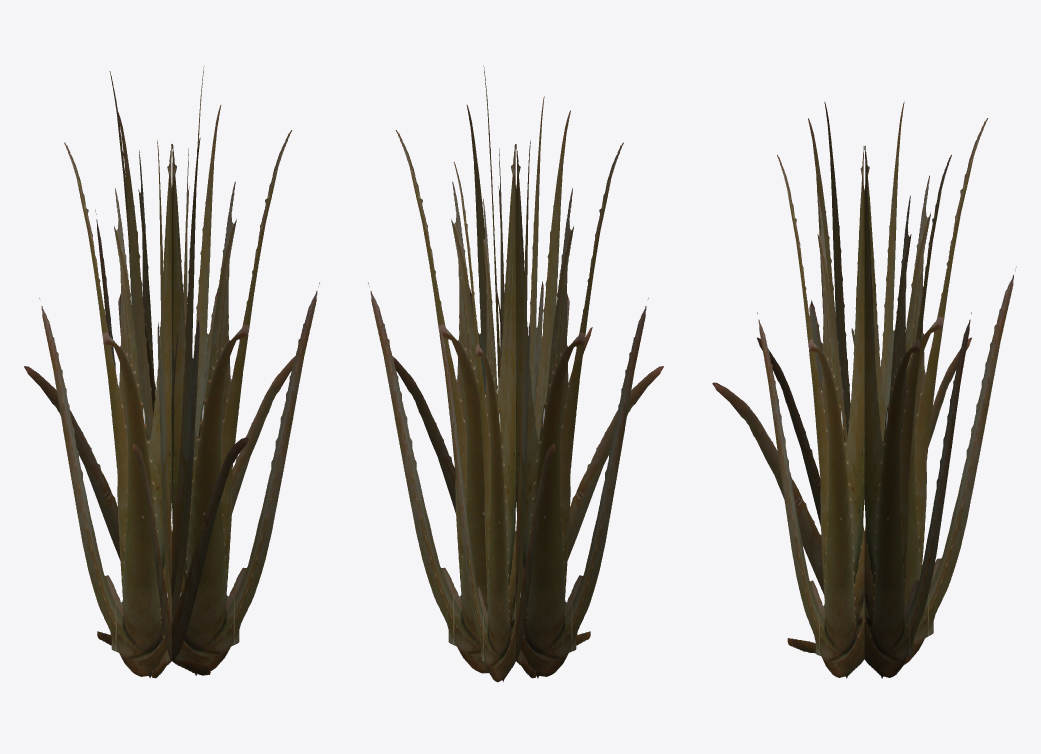
The model's file is Model_Plant_04_Large.fbx.
3 renders of one model, left to right at view 1: azimuth 30°, elevation 25°; view 2: azimuth 150°, elevation 25°; view 3: azimuth 270°, elevation 25°, orthographic.
Parts seen in each view (by area): view 1: CavePlant_01_L; view 2: CavePlant_01_L; view 3: CavePlant_01_L.
Boxes of the visible parts, box(x1,y1,x2,y2) form: CavePlant_01_L: box(24, 66, 319, 678); CavePlant_01_L: box(368, 66, 663, 682); CavePlant_01_L: box(712, 101, 1016, 678).
Size of the model in its own units: 77.09 by 154 by 77.09.
